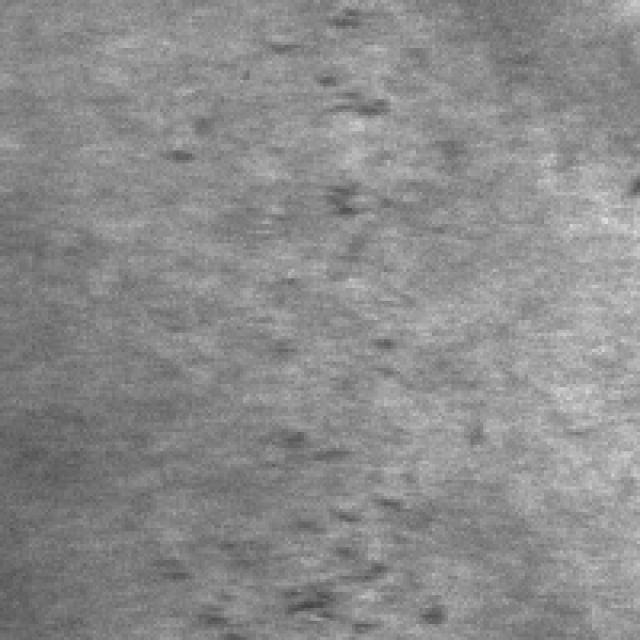rolled-in_scale: (125, 419, 438, 634), (256, 0, 397, 291)
